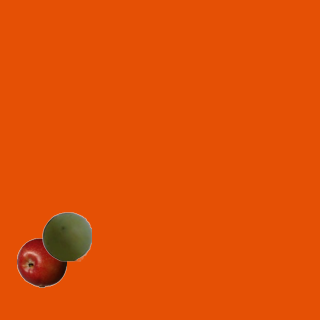Apple Braeburn: (16, 237, 66, 287)
Grape White 4: (41, 211, 91, 261)
